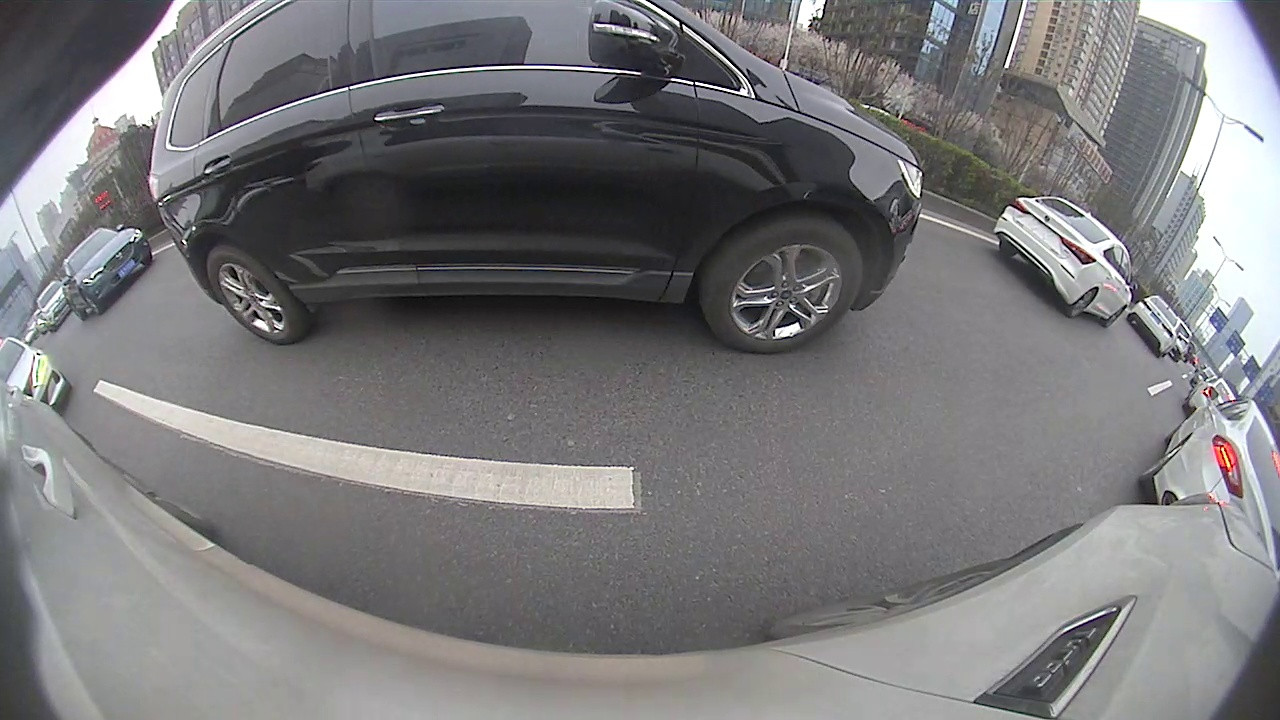car: (148, 1, 925, 357), (1136, 384, 1279, 578), (993, 195, 1139, 330), (58, 225, 153, 322), (1127, 294, 1185, 359)
front: (702, 222, 859, 356)
rear: (205, 245, 295, 344)
